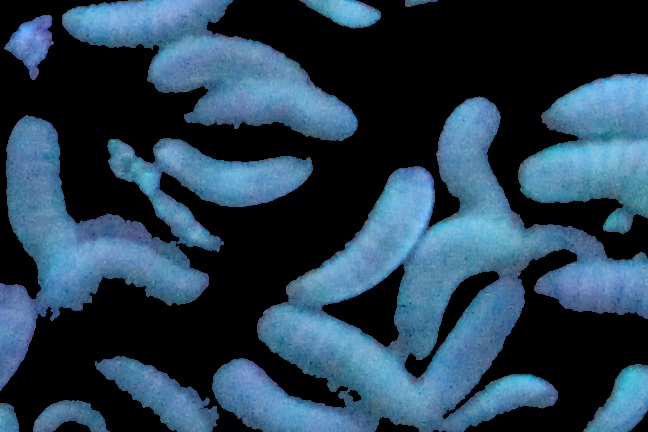larvae: (293, 169, 435, 306), (255, 308, 422, 421), (400, 218, 524, 356), (33, 234, 210, 322), (423, 276, 525, 411), (212, 360, 384, 432), (188, 71, 357, 142), (149, 136, 315, 207), (1, 116, 76, 257), (144, 38, 322, 94), (429, 105, 518, 216), (96, 355, 224, 432), (519, 139, 648, 215), (62, 1, 239, 47), (539, 68, 648, 142), (538, 256, 648, 320), (449, 372, 556, 432), (585, 361, 648, 432), (287, 1, 385, 34), (32, 393, 110, 432)
